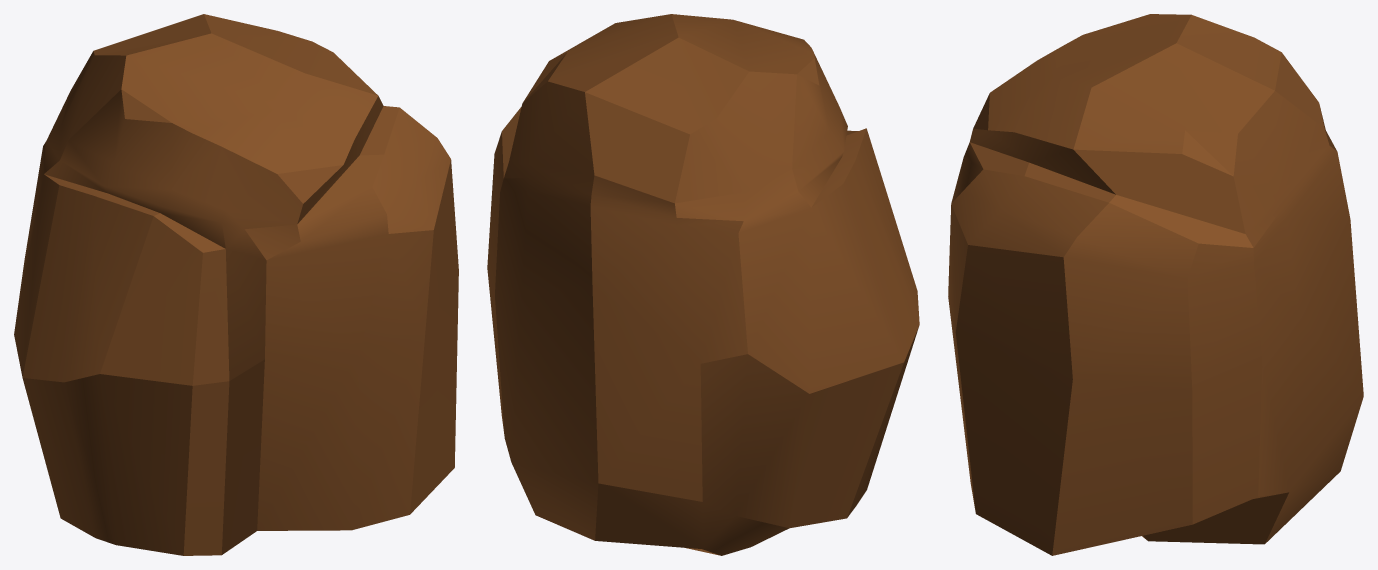
Rendered from stone_rock_red.glb.
3 renders of one model, left to right at view 1: azimuth 30°, elevation 25°; view 2: azimuth 150°, elevation 25°; view 3: azimuth 270°, elevation 25°, orthographic. The views are drawn at different scales.
Visible parts, largest first — view 1: Rock_3; view 2: Rock_3; view 3: Rock_3.
Part boxes in pixels (x1,y1,x2,y2): Rock_3: (14,14,458,555); Rock_3: (487,14,919,555); Rock_3: (948,14,1363,555).
Size of the model in its own units: 3.3 by 3.83 by 3.01.
Materials: 1 (1 with a texture image).
